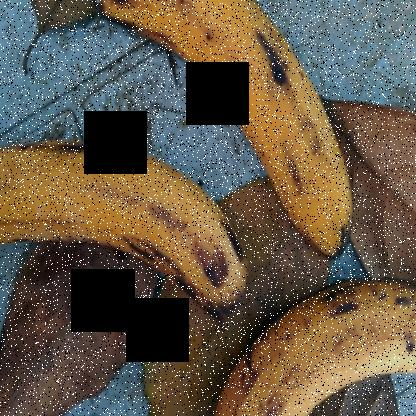overripe: (0, 130, 259, 327), (210, 260, 415, 415)
ripe: (78, 1, 360, 265)
